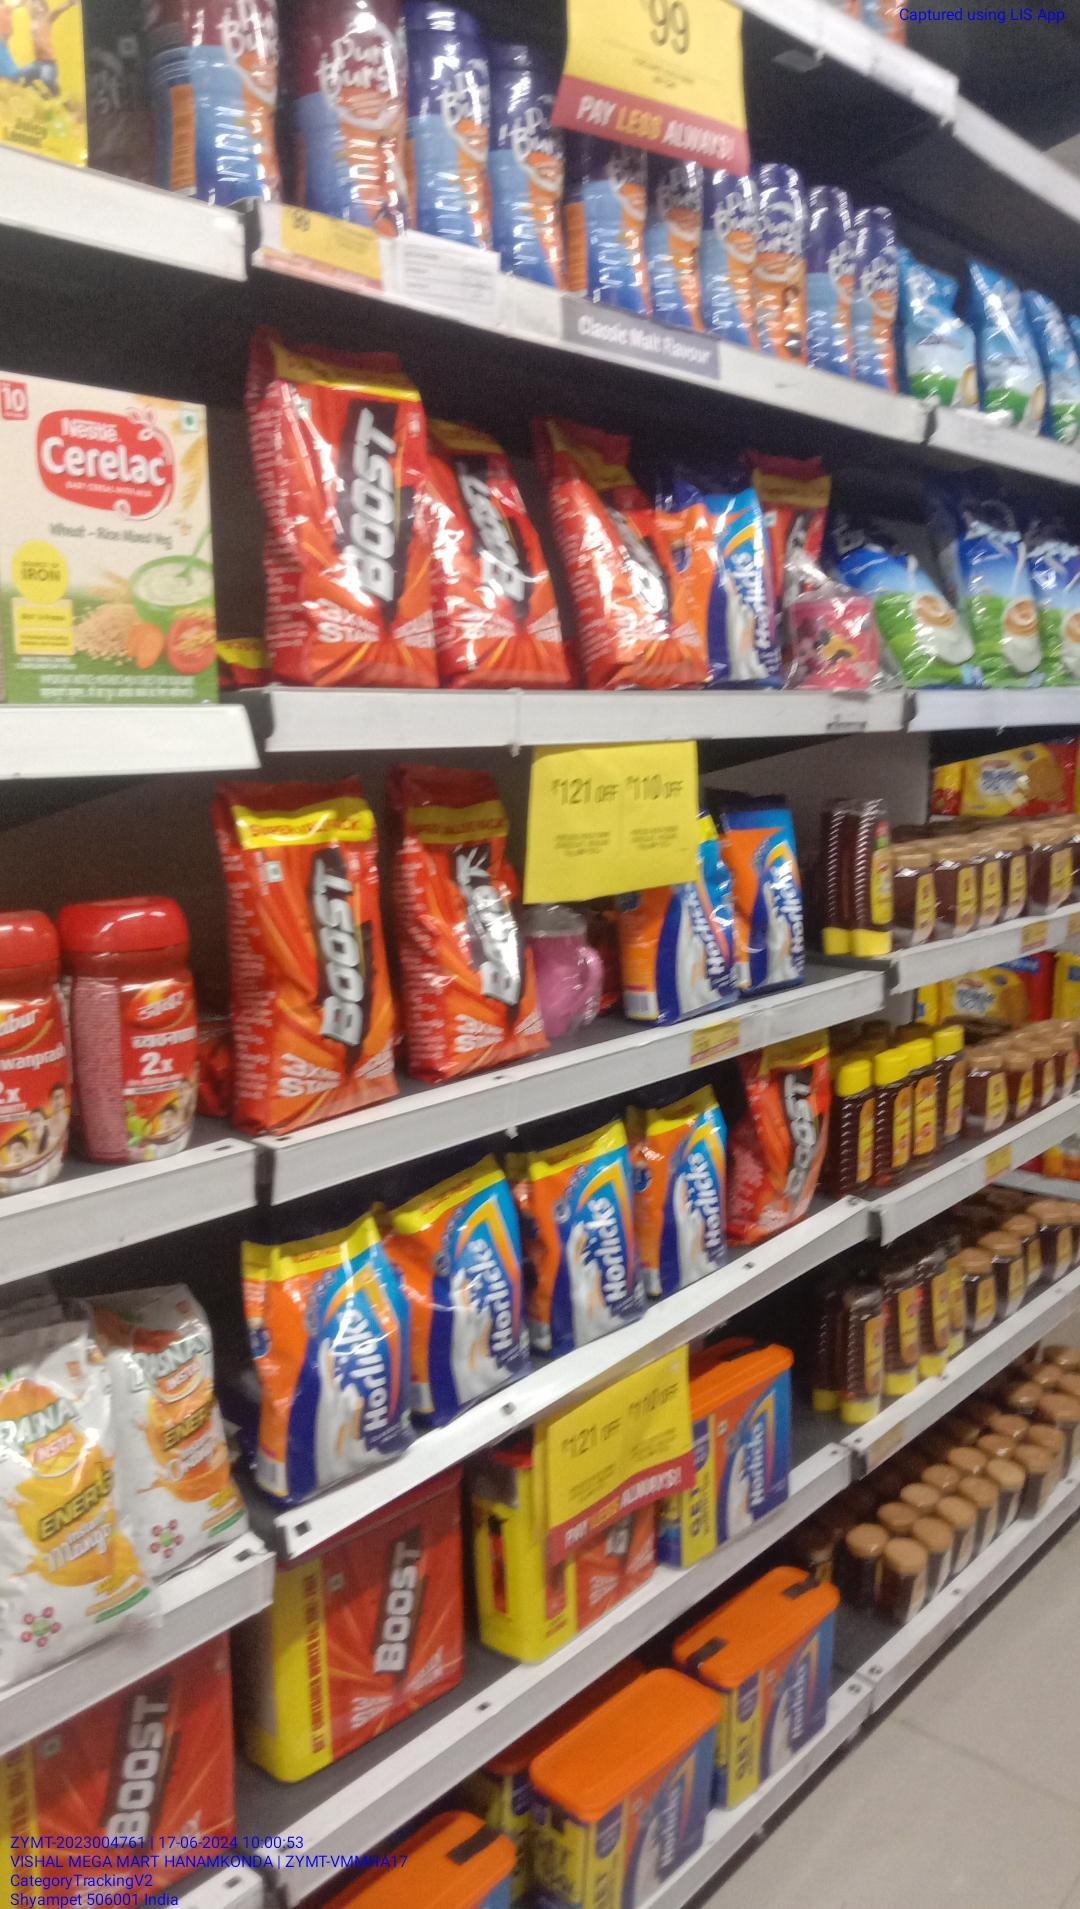HORLICK_MALT_1_KG_CONTAINER: (552, 1686, 725, 1909), (676, 1347, 796, 1542), (734, 1573, 840, 1769)
